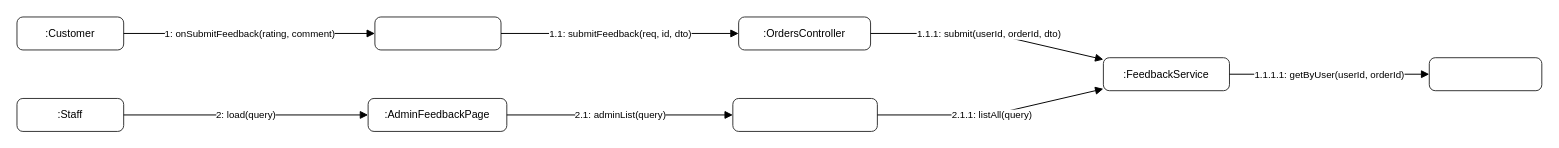
Image size: 1559x148. Some labels were removed from this diagram. The shapes that lost their labels are listed below. From the top down, each one's centre as x and y in pixels, then its label:
point 437,33: :OrderDetailPage
point 1485,74: :OrdersService
point 804,114: :FeedbackController
